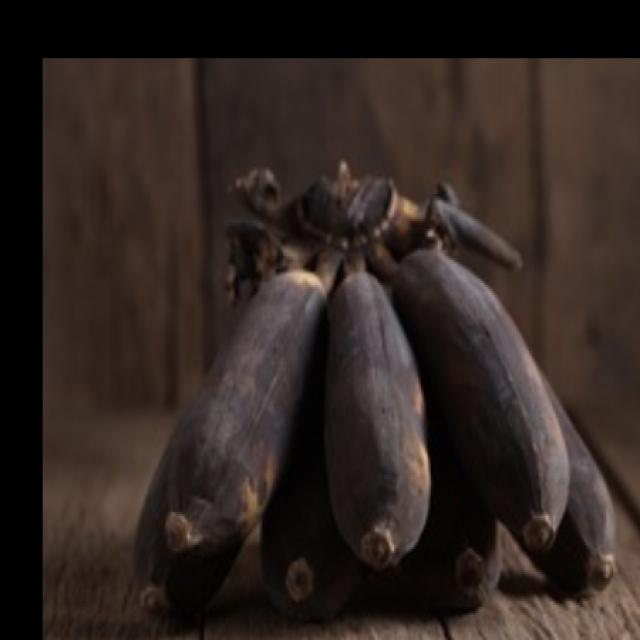banana: (111, 68, 536, 582)
